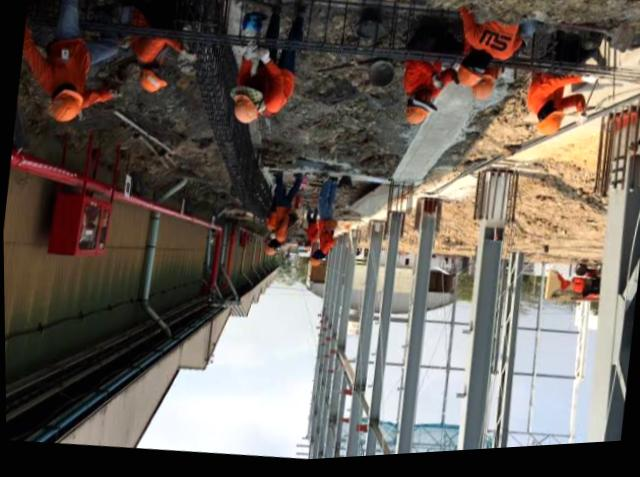helmet: (40, 83, 86, 126), (225, 88, 264, 130), (530, 112, 562, 144), (134, 66, 168, 96), (401, 101, 435, 130), (468, 76, 496, 106), (453, 67, 482, 93), (303, 257, 319, 272), (260, 242, 275, 258), (301, 247, 312, 253)
